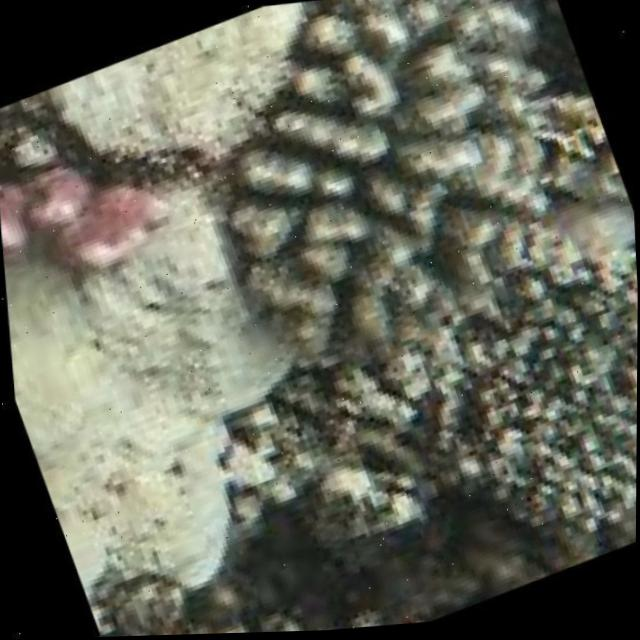Dead Coral: (163, 0, 623, 413), (352, 266, 638, 599)
Healthy Coral: (0, 117, 195, 323)
